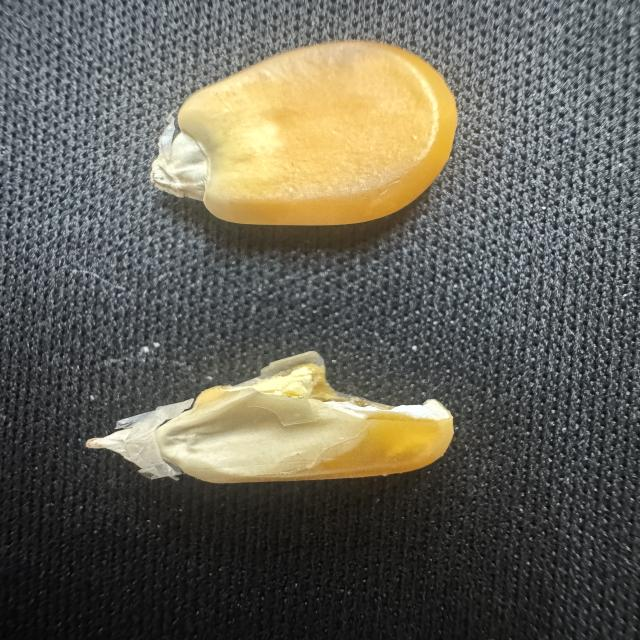Bad-Seed: (81, 345, 460, 488)
Good-Seed: (132, 29, 475, 245)
